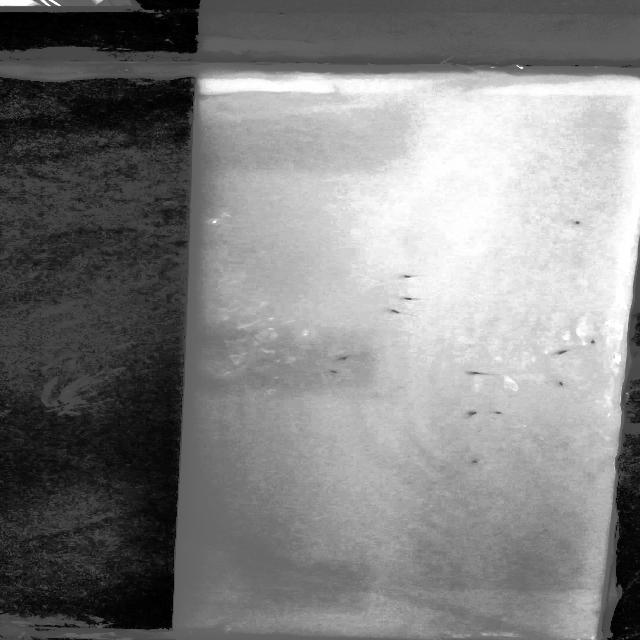shrimp: (492, 410, 525, 420), (552, 348, 582, 357), (463, 409, 483, 422), (403, 294, 434, 302), (465, 368, 496, 376), (572, 220, 595, 230), (556, 379, 570, 392), (395, 274, 419, 281), (332, 354, 359, 360), (584, 338, 602, 347), (388, 309, 408, 317), (327, 368, 341, 376), (469, 459, 485, 464)
